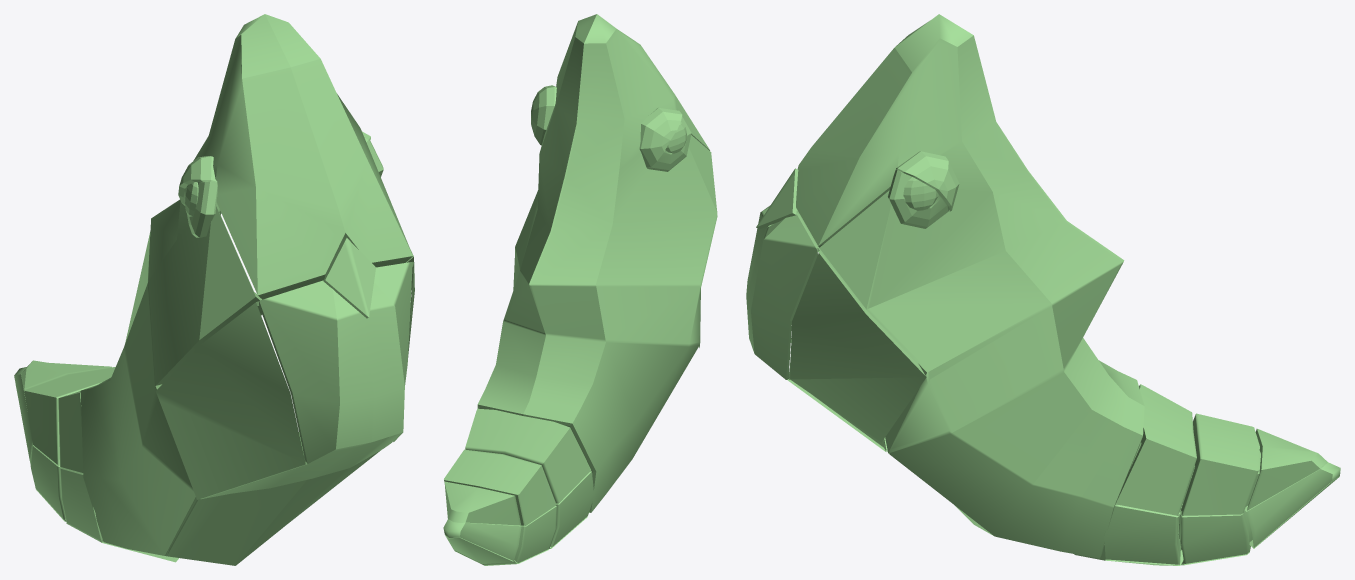
The model's file is metapod.glb.
The picture shows the model from 3 angles, left to right: view 1: azimuth 30°, elevation 25°; view 2: azimuth 150°, elevation 25°; view 3: azimuth 270°, elevation 25°; orthographic projection. The views are drawn at different scales.
Parts seen in each view (by area): view 1: Node; view 2: Node; view 3: Node.
Boxes of the visible parts, x1,y1,x2,y2 form: Node: [14, 14, 414, 565]; Node: [443, 14, 717, 565]; Node: [746, 14, 1340, 565].
Bounding box in the file's own units: 3.98 × 9.86 × 9.49.
